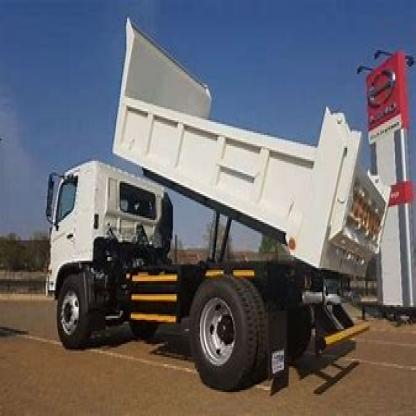dump_truck: (40, 11, 385, 385)
